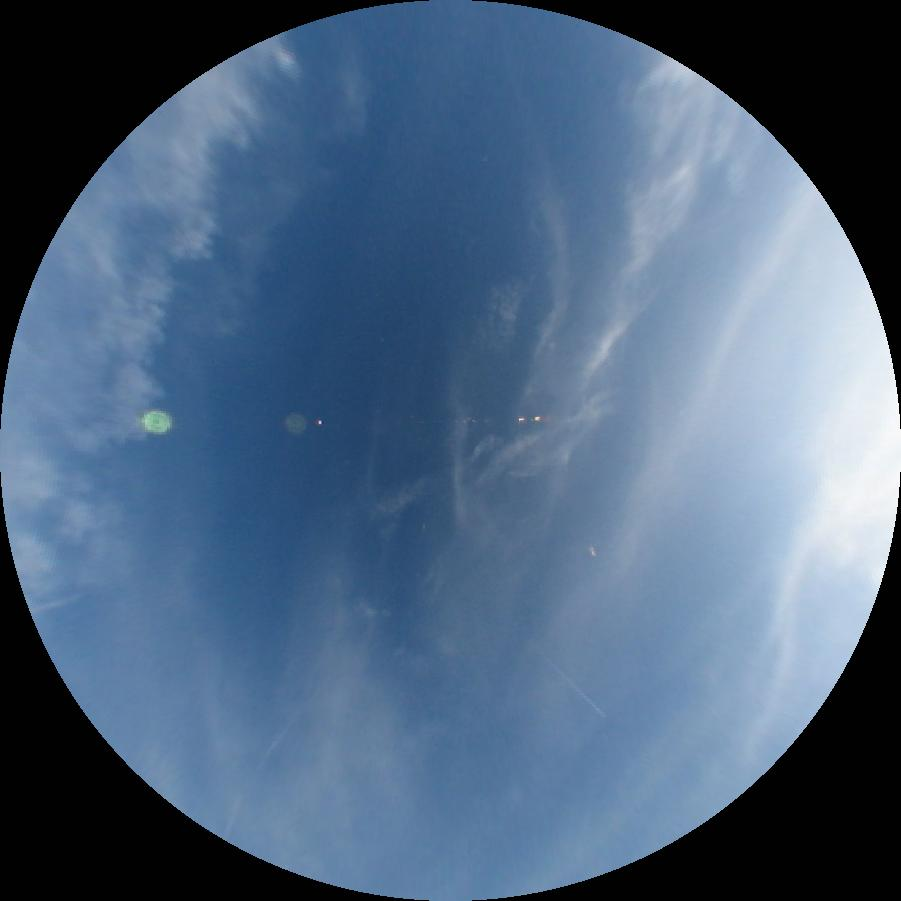contrail old: (222, 678, 329, 837)
contrail young: (537, 646, 606, 718)
unknow: (31, 592, 84, 615)
